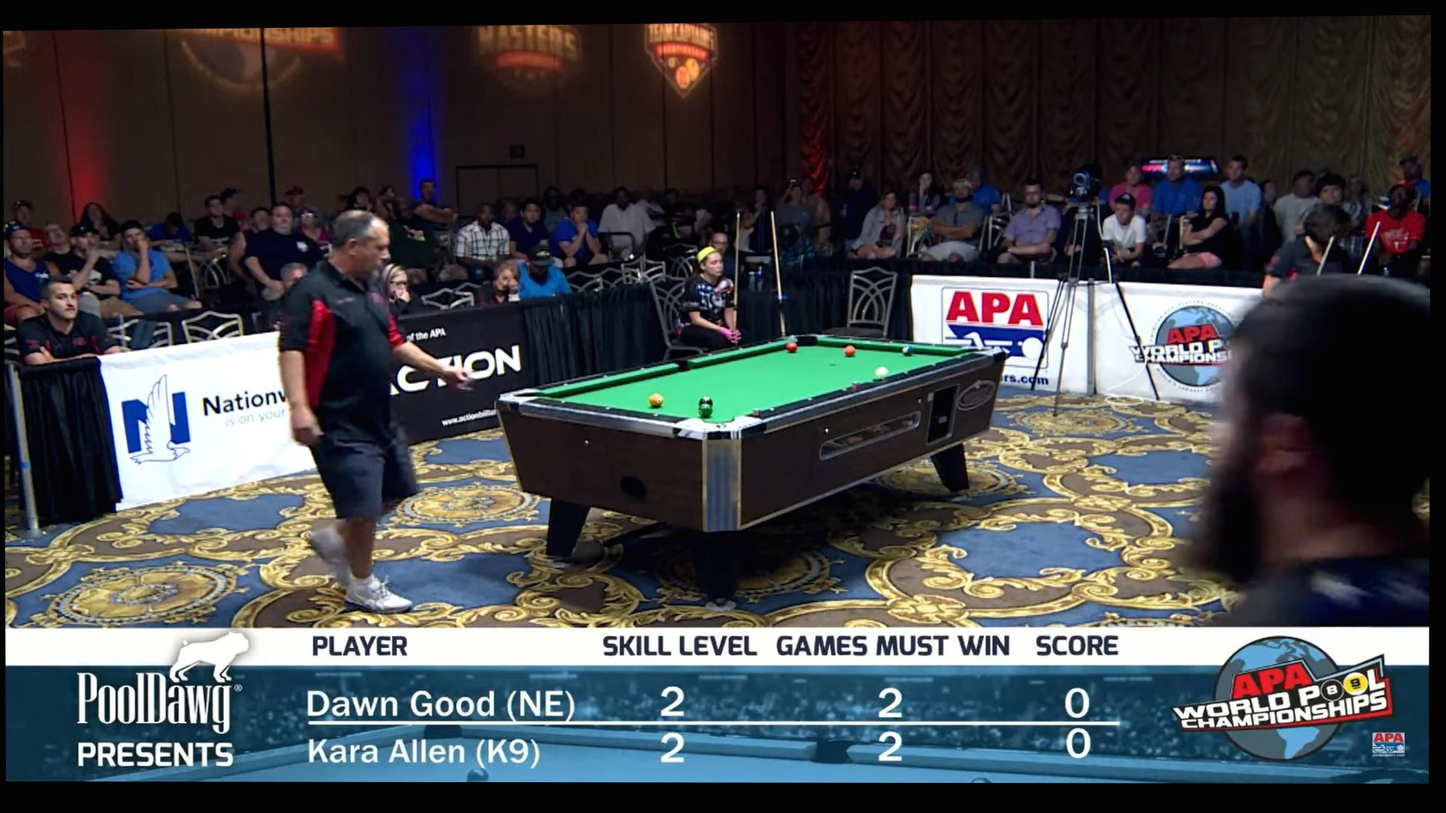Black: (699, 396, 713, 407)
Cue: (875, 366, 889, 379)
Solid: (560, 381, 571, 389), (637, 365, 648, 373), (928, 341, 939, 349), (901, 369, 912, 377), (736, 345, 746, 353), (765, 339, 775, 347), (954, 353, 964, 361), (805, 395, 815, 403), (600, 373, 611, 380), (928, 361, 939, 368), (650, 412, 661, 419), (602, 405, 613, 412), (705, 351, 715, 358), (846, 336, 856, 343), (886, 339, 896, 346), (840, 386, 850, 393), (767, 406, 777, 413), (558, 398, 568, 405)
Striped: (649, 393, 664, 408), (699, 403, 713, 418), (844, 345, 856, 357), (786, 341, 798, 353), (902, 345, 914, 356)
